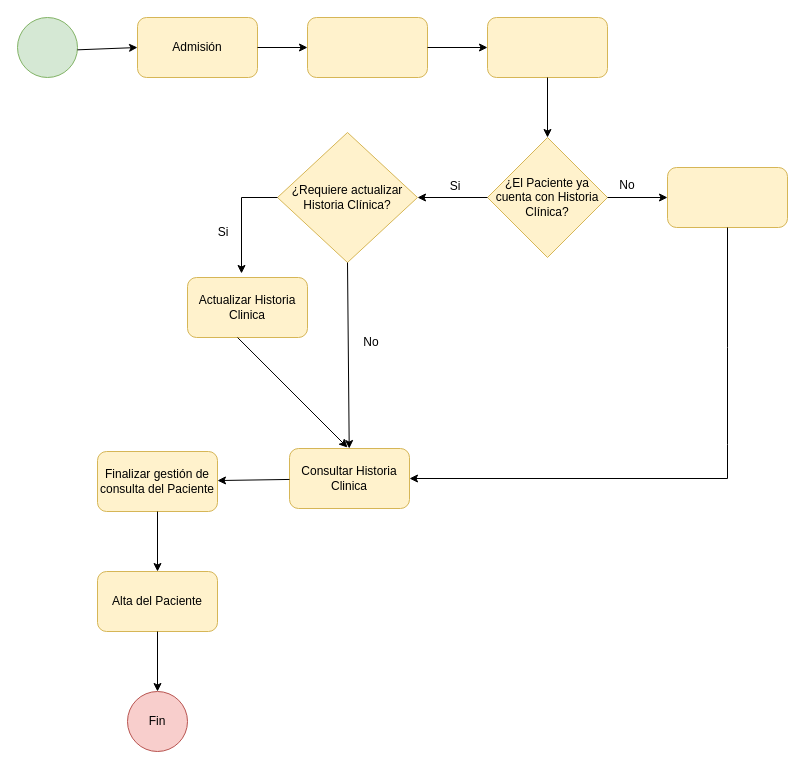
Some shapes in this 805 by 769 pixel diagram are drawn without their labels. The shapes that lost their labels are listed below. From the top down, each one's centre as x and y in pixels, then its label:
(47,47): Inicio
(367,47): Toma de Signos Vitales
(547,47): Ingreso al Modulo de consultas
(727,197): Crear Historia Clinica
